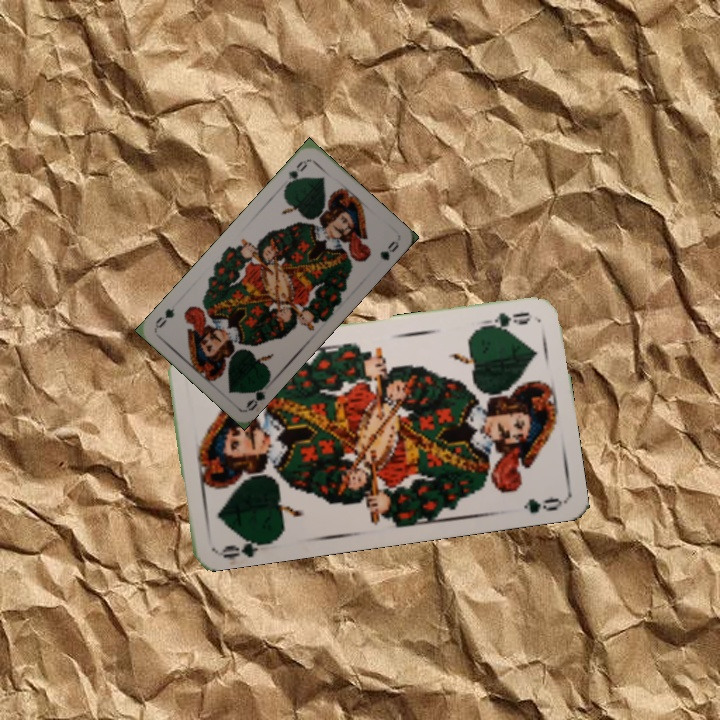GO: (216, 531, 275, 561), (477, 308, 532, 333), (242, 377, 272, 413), (281, 156, 311, 191)
